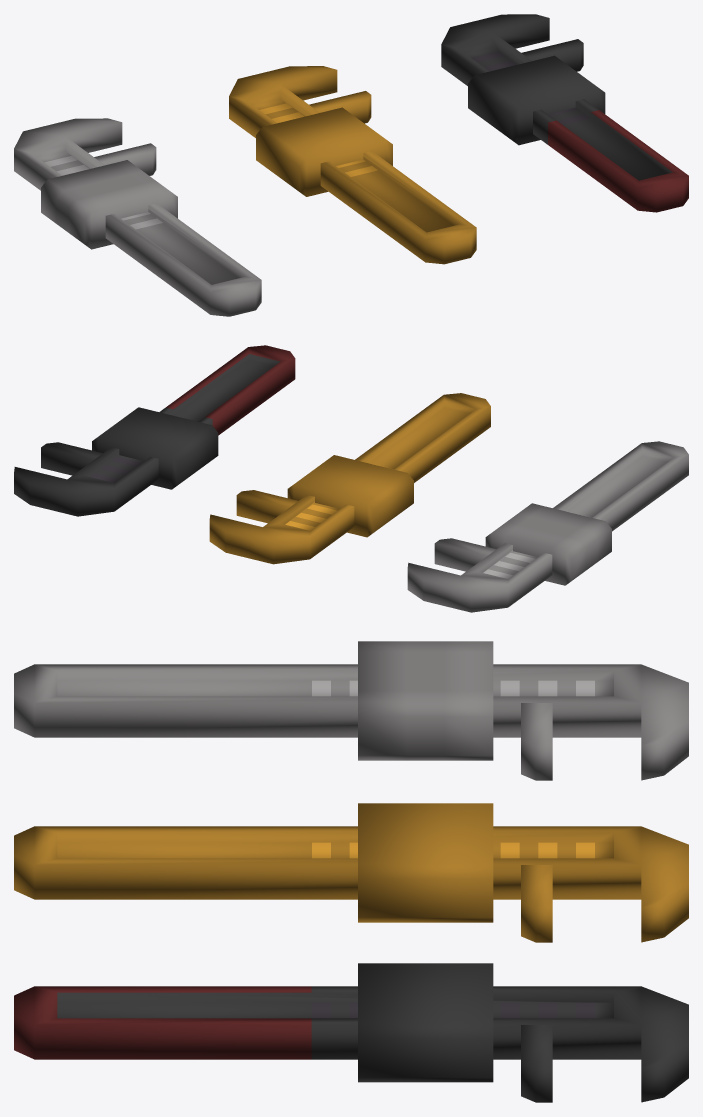
File: wrenches.fbx
The picture shows the model from 3 angles, top to bottom: view 1: azimuth 30°, elevation 25°; view 2: azimuth 150°, elevation 25°; view 3: azimuth 270°, elevation 25°; orthographic projection. The views are drawn at different scales.
Parts seen in each view (by area): view 1: wrench syndicate, wrench, wrench brass; view 2: wrench, wrench brass, wrench syndicate; view 3: wrench syndicate, wrench, wrench brass.
Boxes of the visible parts, <box> form: wrench syndicate: <box>441,14,688,212</box>; wrench: <box>14,118,261,316</box>; wrench brass: <box>229,66,476,264</box>; wrench: <box>407,441,688,612</box>; wrench brass: <box>209,393,490,564</box>; wrench syndicate: <box>14,345,295,516</box>; wrench syndicate: <box>14,963,688,1102</box>; wrench: <box>14,641,688,780</box>; wrench brass: <box>14,803,688,942</box>.
Bounding box in the file's own units: 0.7988 × 0.0523 × 0.5434.
